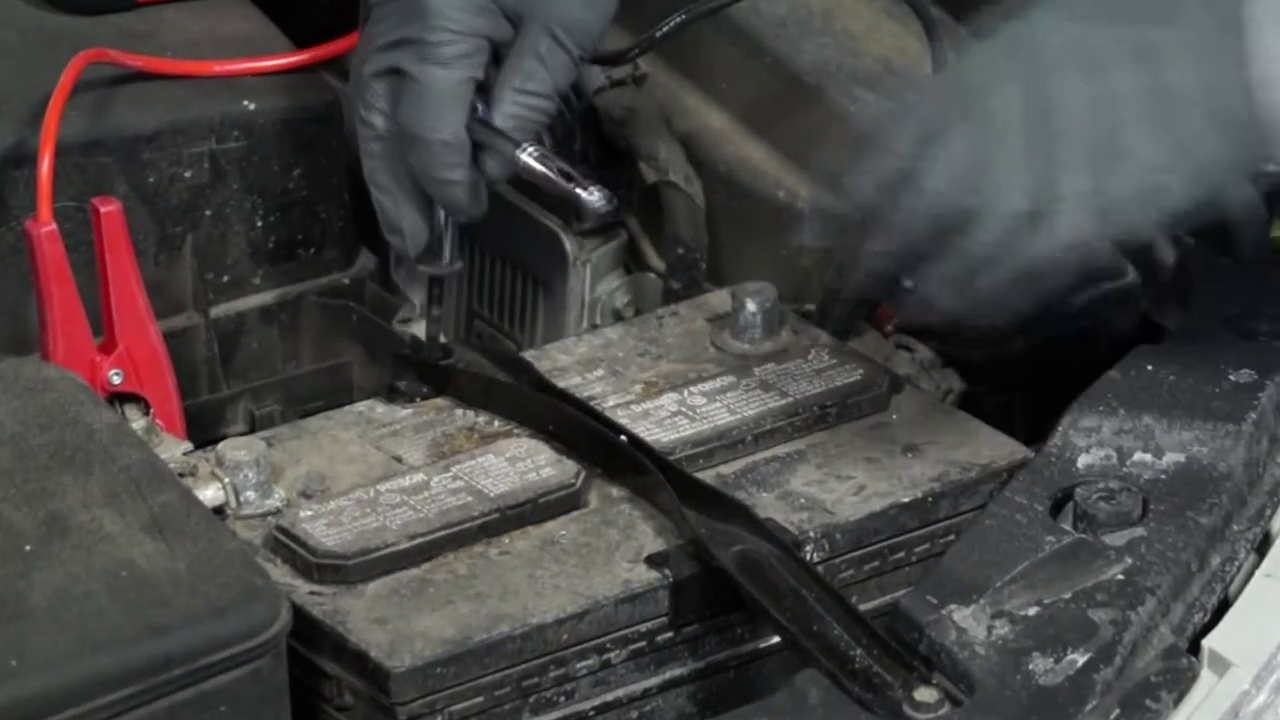battery: (145, 261, 1048, 635)
neg_disconnected: (694, 250, 806, 371)
pos_disconnected: (29, 252, 284, 521)
